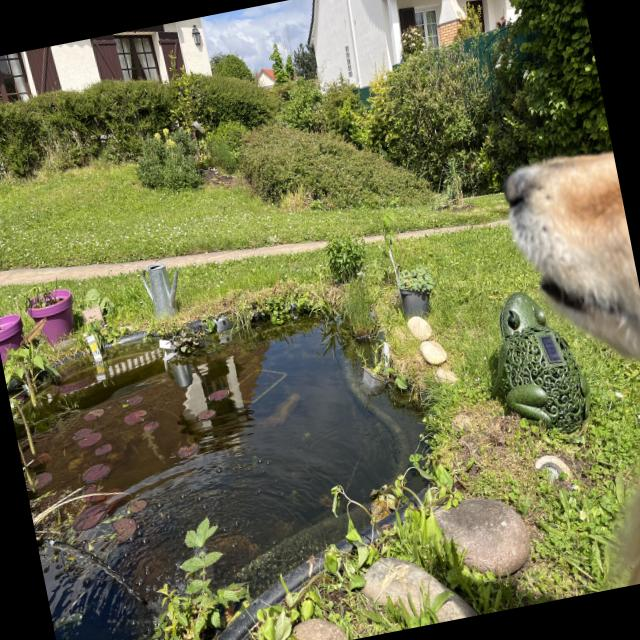Dog: (487, 122, 640, 589)
